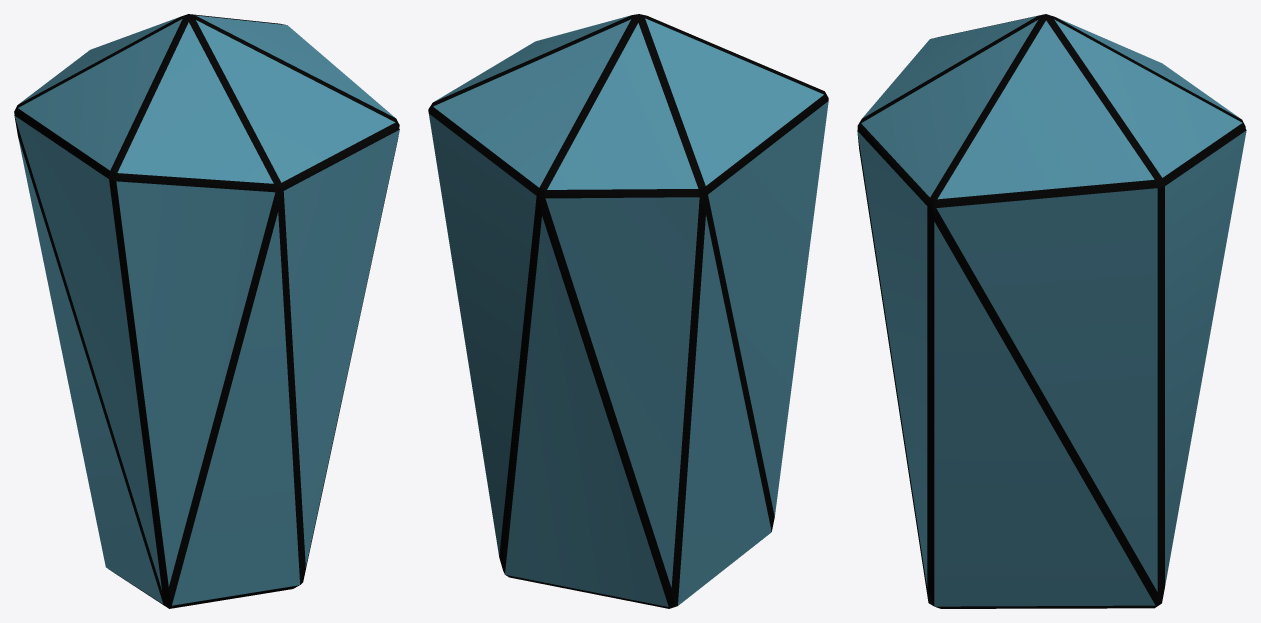
Rendered from SapphireWO.fbx.
The picture shows the model from 3 angles, left to right: view 1: azimuth 30°, elevation 25°; view 2: azimuth 150°, elevation 25°; view 3: azimuth 270°, elevation 25°; orthographic projection. The views are drawn at different scales.
Visible parts, largest first — view 1: pPlatonic3; view 2: pPlatonic3; view 3: pPlatonic3.
Part boxes in pixels (<box>): pPlatonic3: <box>14,14,399,608</box>; pPlatonic3: <box>428,14,828,608</box>; pPlatonic3: <box>857,14,1246,608</box>.
Size of the model in its own units: 1.04 by 1.9 by 1.16.
